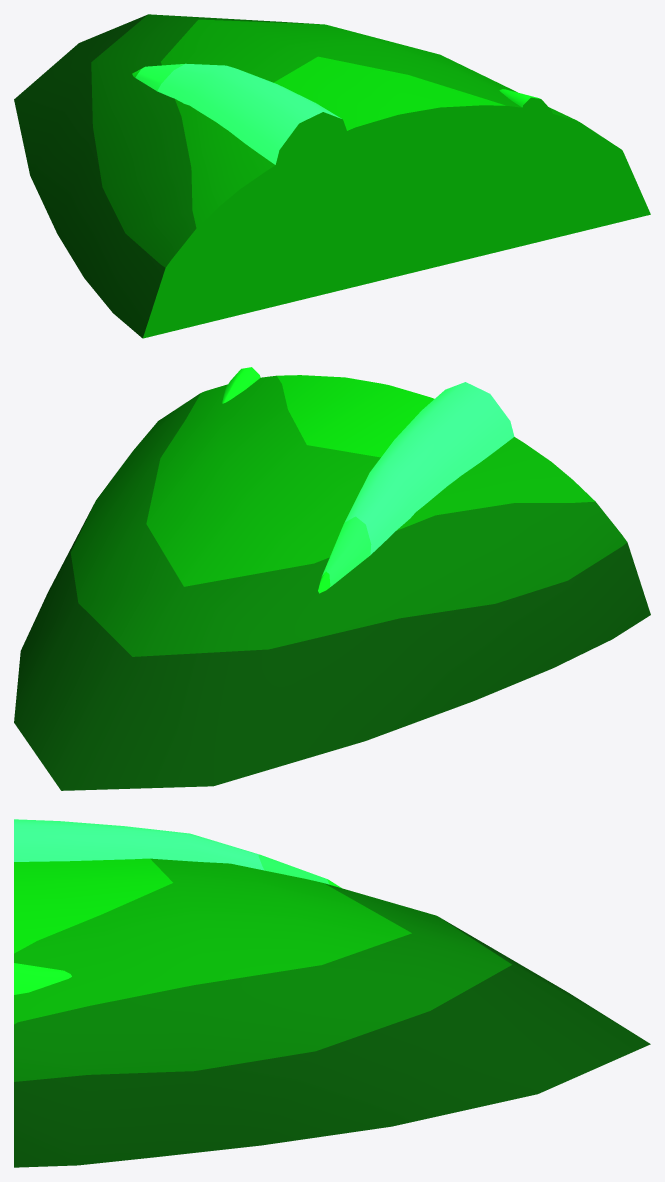
The model's file is shot_espike_117.glb.
3 views of the same model, one above another, from view 1: azimuth 30°, elevation 25°; view 2: azimuth 150°, elevation 25°; view 3: azimuth 270°, elevation 25° (orthographic). The views are drawn at different scales.
Visible parts, largest first — view 1: shot_espike_117_body, shot_espike_117_light; view 2: shot_espike_117_body, shot_espike_117_light; view 3: shot_espike_117_body, shot_espike_117_light.
Boxes of the visible parts, x1,y1,x2,y2 form: shot_espike_117_body: (14, 14, 650, 338); shot_espike_117_light: (132, 63, 552, 179); shot_espike_117_body: (14, 375, 650, 790); shot_espike_117_light: (222, 367, 514, 593); shot_espike_117_body: (14, 858, 650, 1167); shot_espike_117_light: (14, 819, 341, 994).
Size of the model in its own units: 11.86 by 4.07 by 12.88.
